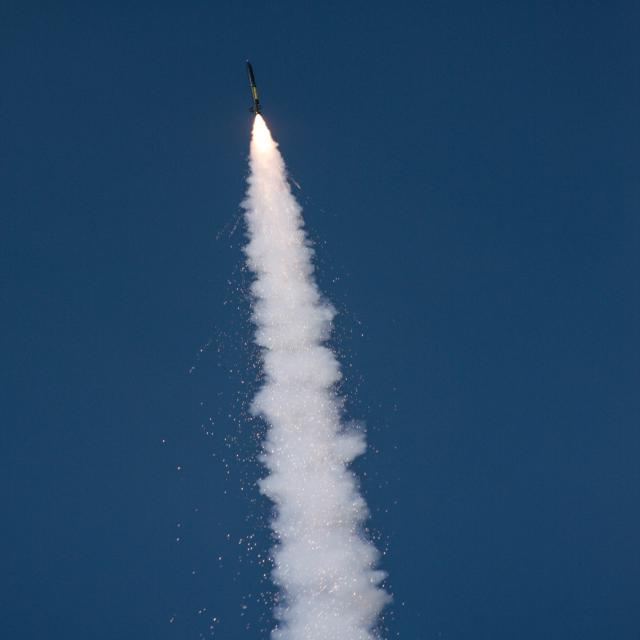Rocket: (246, 59, 264, 115)
